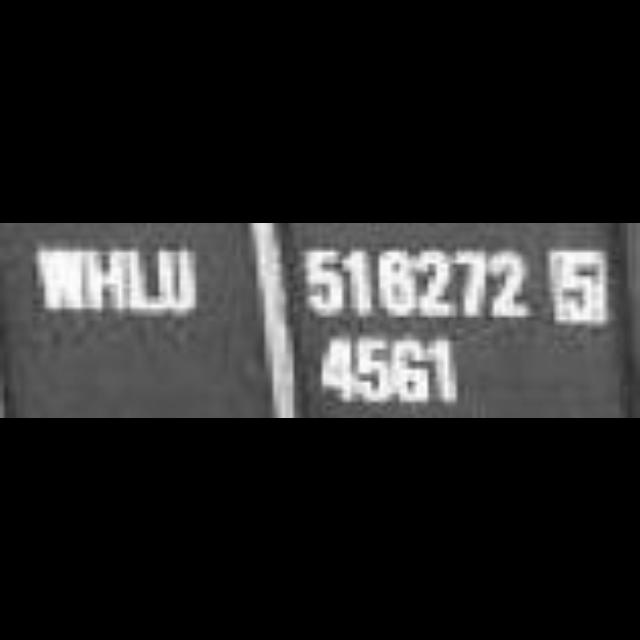1: (423, 334, 465, 406), (342, 242, 376, 318)
2: (412, 241, 462, 319), (489, 243, 533, 324)
4: (316, 329, 356, 405)
5: (552, 248, 604, 328), (296, 242, 346, 318), (354, 329, 392, 406)
6: (392, 325, 432, 409)
7: (456, 243, 492, 321)
8: (377, 243, 417, 319)
h: (86, 234, 130, 318)
l: (130, 237, 162, 326)
u: (160, 241, 200, 325)
w: (36, 242, 86, 318)
